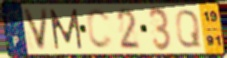2: (116, 7, 142, 52)
3: (148, 5, 173, 54)
C: (86, 7, 115, 51)
M: (48, 8, 84, 51)
Q: (174, 8, 203, 50)
V: (21, 7, 50, 52)
